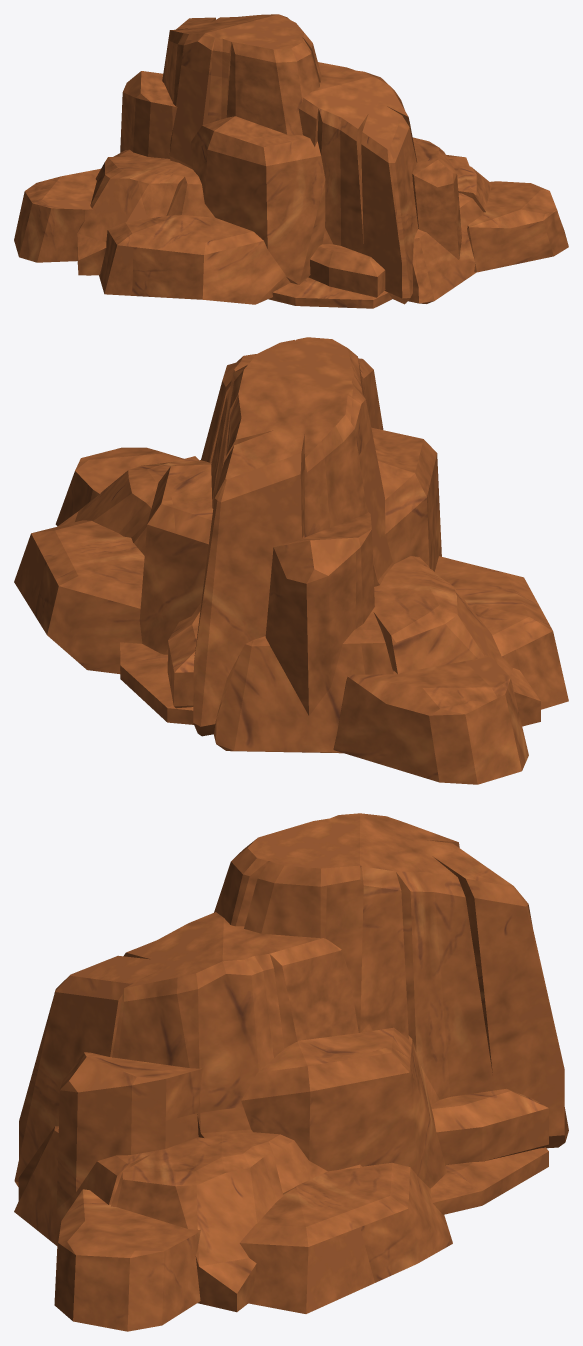
The model's file is rock12.fbx.
The picture shows the model from 3 angles, top to bottom: view 1: azimuth 30°, elevation 25°; view 2: azimuth 150°, elevation 25°; view 3: azimuth 270°, elevation 25°; orthographic projection. The views are drawn at different scales.
Visible parts, largest first — view 1: 12; view 2: 12; view 3: 12.
Boxes of the visible parts, x1,y1,x2,y2 form: 12: (14, 14, 568, 308); 12: (14, 337, 568, 784); 12: (14, 813, 568, 1331).
Size of the model in its own units: 83.38 by 39.3 by 61.31.
1 material, 1 textured.
